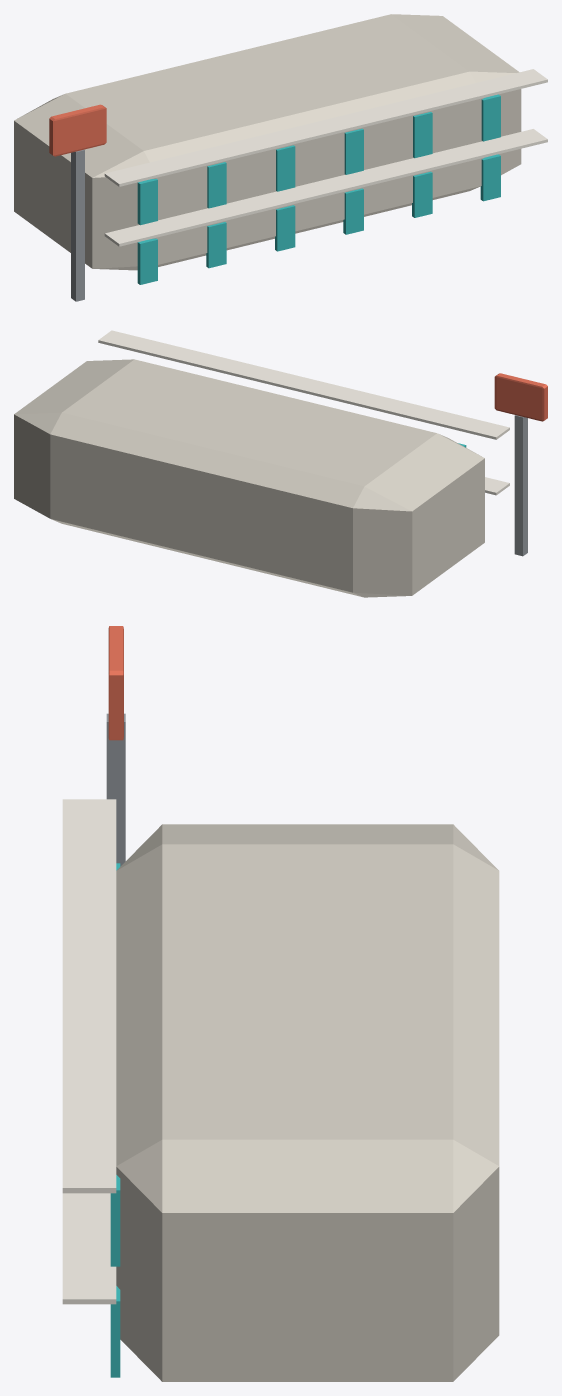
Rendered from motel.glb.
3 renders of one model, top to bottom at view 1: azimuth 30°, elevation 25°; view 2: azimuth 150°, elevation 25°; view 3: azimuth 270°, elevation 25°, orthographic. The views are drawn at different scales.
Visible parts, largest first — view 1: walls, walk.001, walk, motelsign, signpost, mdoor.006, mdoor, mdoor.005, mdoor.002, mdoor.001, mdoor.004, mdoor.003 (+5 smaller); view 2: walls, walk.001, motelsign, signpost; view 3: walls, walk.001, walk, signpost, motelsign, mdoor.011, mdoor.005.
Boxes of the visible parts, box(x1,y1,x2,y2) form: walls: box(14, 14, 521, 270); walk.001: box(104, 69, 547, 186); walk: box(104, 129, 547, 246); motelsign: box(49, 104, 106, 156); signpost: box(71, 149, 84, 301); mdoor.006: box(137, 178, 157, 225); mdoor: box(137, 238, 157, 284); mdoor.005: box(480, 154, 500, 201); mdoor.002: box(275, 205, 295, 251); mdoor.001: box(206, 222, 226, 268); mdoor.004: box(412, 171, 432, 217); mdoor.003: box(343, 188, 363, 234); walls: box(14, 359, 484, 597); walk.001: box(98, 330, 509, 439); motelsign: box(494, 373, 547, 421); signpost: box(514, 415, 527, 556); walls: box(116, 824, 499, 1381); walk.001: box(62, 799, 116, 1193); walk: box(62, 1193, 116, 1304); signpost: box(106, 713, 125, 866); motelsign: box(108, 626, 123, 740); mdoor.011: box(110, 1175, 120, 1266); mdoor.005: box(110, 1286, 120, 1377).
Size of the model in its own units: 27 by 10 by 11.4.
